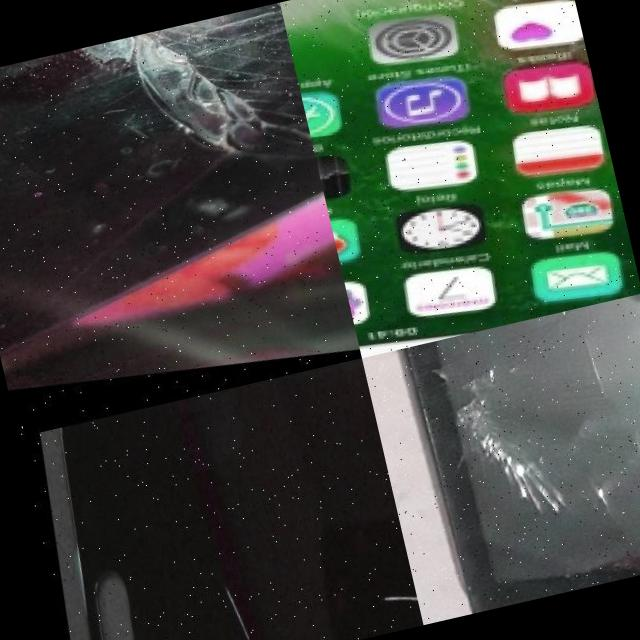scratch: (201, 571, 272, 640), (365, 568, 423, 635)
screen crack: (368, 292, 640, 623), (56, 1, 333, 287)
